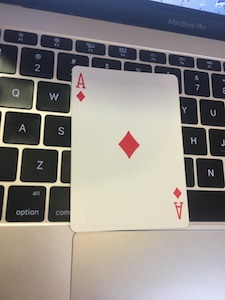AceOfDiamonds: (68, 63, 193, 234)
